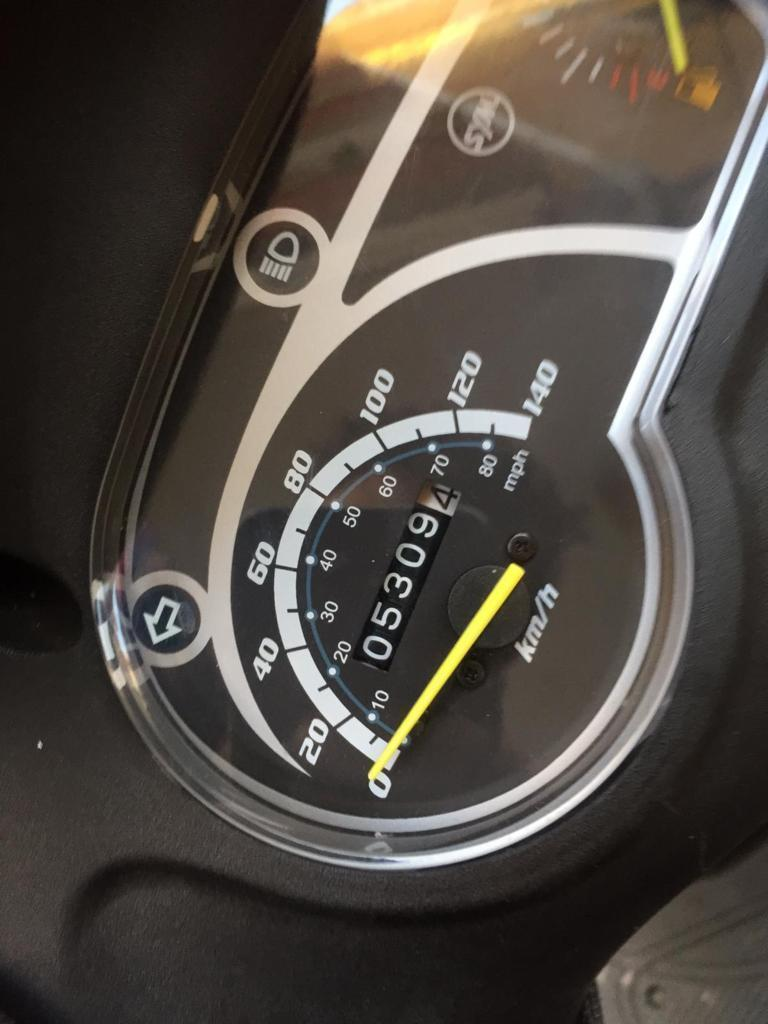0: (360, 633, 393, 662), (393, 541, 427, 568), (345, 504, 362, 517), (382, 475, 399, 487), (344, 639, 352, 654)
3: (381, 571, 414, 599)
4: (427, 482, 458, 511)
5: (370, 600, 402, 631), (343, 515, 358, 530)
6: (377, 485, 393, 498)
9: (405, 510, 439, 539)
odometer: (343, 475, 468, 678)
